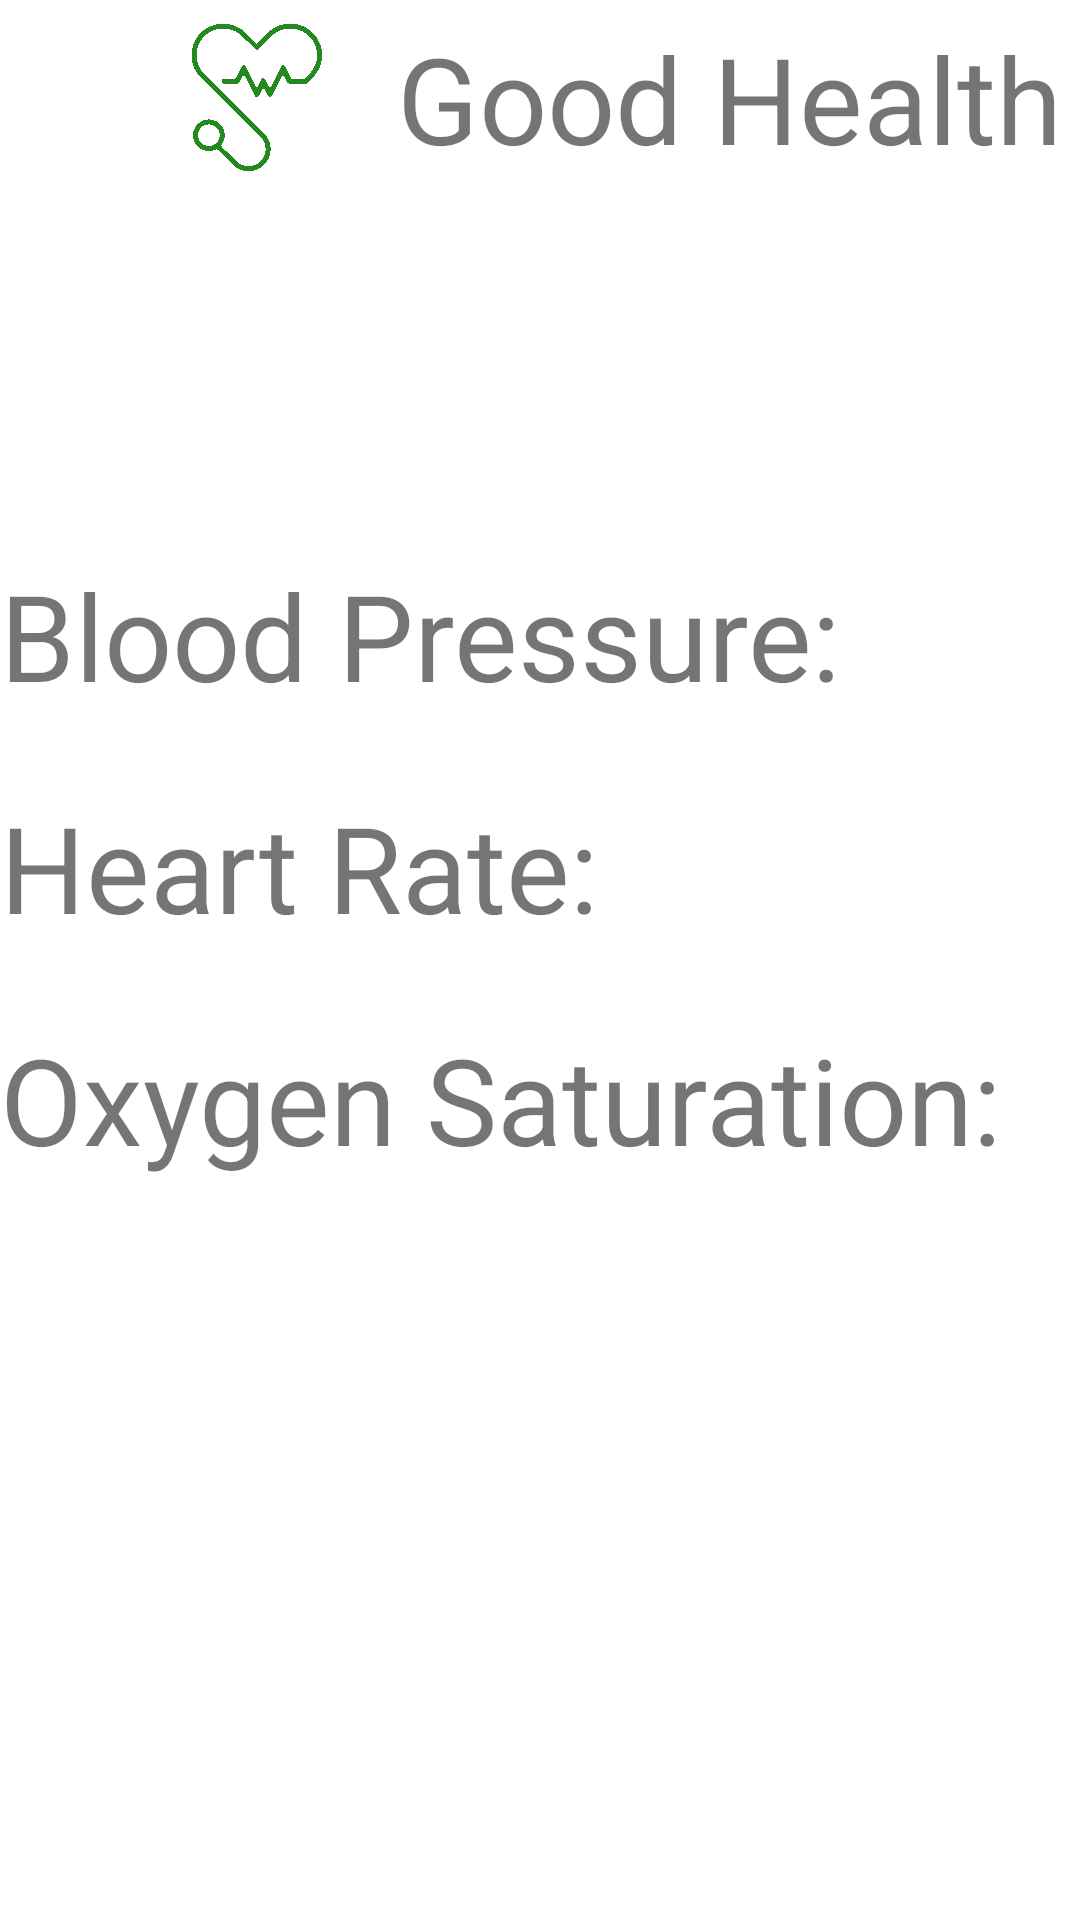

Icons on this 1080w x 1920h Android screen, each with the point to tap as point (x, y):
heart: point (257, 97)
